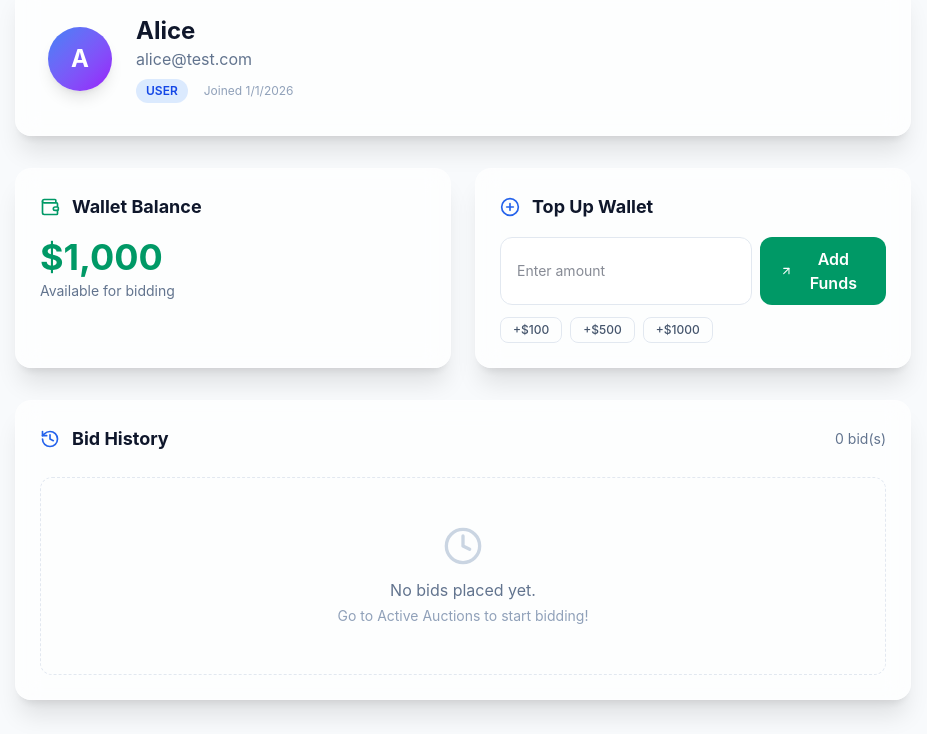
Test case: Profile Page › quick amount buttons populate the input
Expected: the heading "Alice" is shown, [136,16,195,45]
Click the button "+$500": click(603, 330) [570,317,635,343]
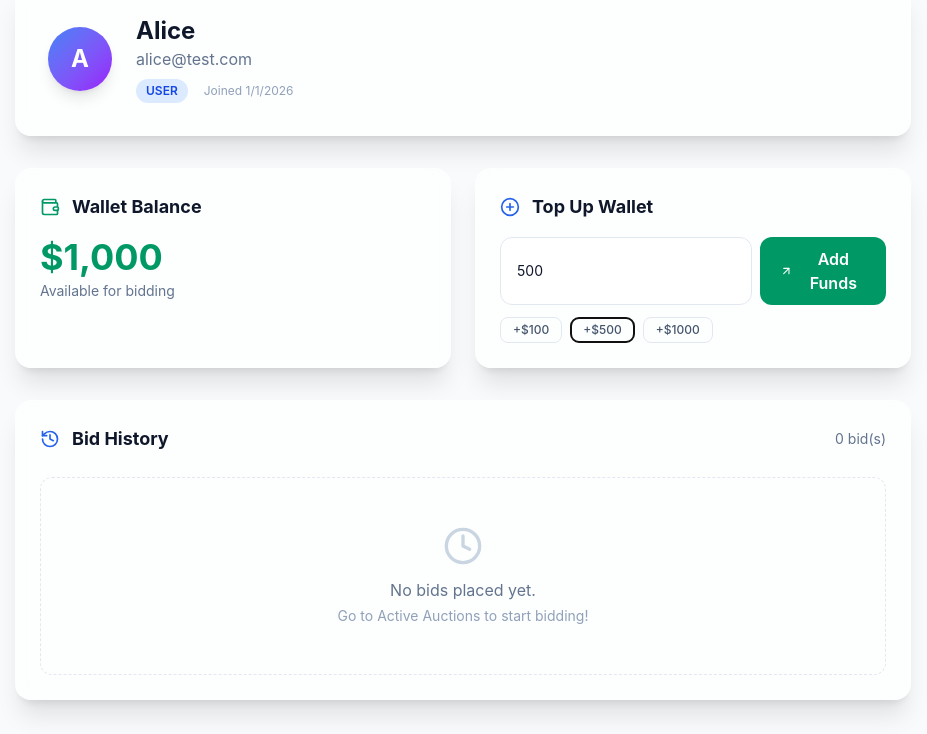
Expected: the number field with placeholder "Enter amount" holds "500", [500,237,752,305]
